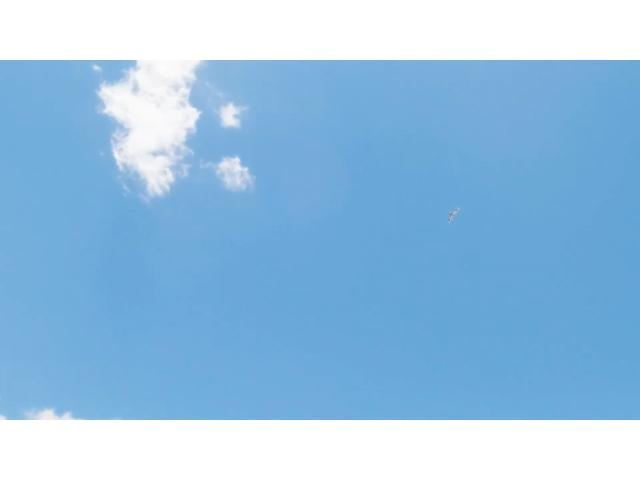Anti-Drone: (439, 202, 467, 228)
